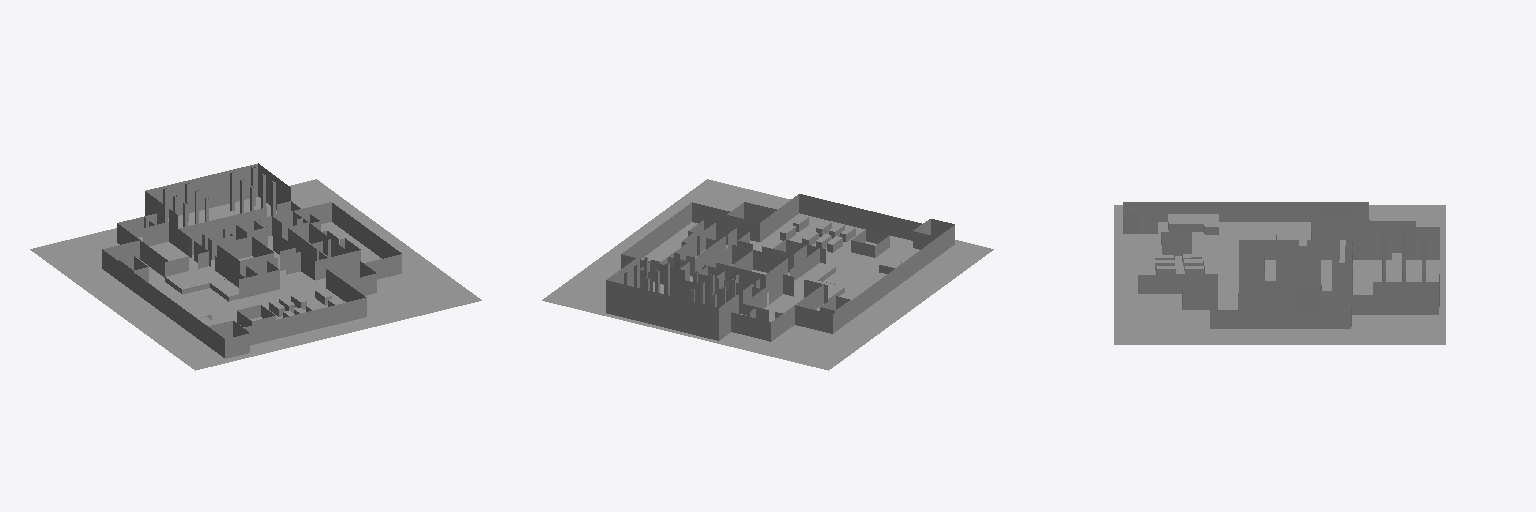
File: vacant.obj
The picture shows the model from 3 angles: view 1: azimuth 30°, elevation 25°; view 2: azimuth 150°, elevation 25°; view 3: azimuth 270°, elevation 25°; orthographic projection.
Visible parts, largest first — view 1: floor.001_Plane.048, Vert.042_Vert.058, Vert.050_Vert.066, Vert.049_Vert.065, Vert.001_Vert.002, Vert.036_Vert.049, Vert.022_Vert.024, Vert.004_Vert.050, Vert.088_Vert.116, Vert.008_Vert.010, Vert.046_Vert.062, Vert.094_Vert.123 (+7 smaller); view 2: floor.001_Plane.048, Vert.042_Vert.058, Vert.050_Vert.066, Vert.049_Vert.065, Vert.036_Vert.049, Vert.022_Vert.024, Vert.088_Vert.116, Vert.004_Vert.050, Vert.008_Vert.010, Vert.046_Vert.062, Vert.020_Vert.022, Vert.039_Vert.055 (+6 smaller); view 3: floor.001_Plane.048, Vert.049_Vert.065, Vert.088_Vert.116, Vert.074_Vert.102, Vert.046_Vert.062, Vert.036_Vert.049, Vert.064_Vert.092, Vert.022_Vert.024, Vert.004_Vert.050, Vert.041_Vert.057, Vert.028_Vert.030, Vert.051_Vert.067 (+5 smaller).
Part boxes in pixels (bbox=[...]): floor.001_Plane.048: bbox=[30, 179, 481, 370]; Vert.042_Vert.058: bbox=[146, 164, 257, 217]; Vert.050_Vert.066: bbox=[244, 297, 366, 345]; Vert.049_Vert.065: bbox=[102, 249, 207, 345]; Vert.001_Vert.002: bbox=[165, 266, 238, 301]; Vert.036_Vert.049: bbox=[326, 260, 376, 300]; Vert.022_Vert.024: bbox=[217, 236, 273, 277]; Vert.004_Vert.050: bbox=[208, 321, 249, 358]; Vert.088_Vert.116: bbox=[332, 203, 401, 258]; Vert.008_Vert.010: bbox=[179, 207, 266, 236]; Vert.046_Vert.062: bbox=[117, 223, 167, 277]; Vert.094_Vert.123: bbox=[246, 260, 279, 293]; floor.001_Plane.048: bbox=[542, 179, 993, 370]; Vert.042_Vert.058: bbox=[606, 280, 718, 340]; Vert.050_Vert.066: bbox=[799, 194, 921, 240]; Vert.049_Vert.065: bbox=[833, 238, 937, 333]; Vert.036_Vert.049: bbox=[727, 202, 777, 241]; Vert.022_Vert.024: bbox=[731, 250, 787, 292]; Vert.088_Vert.116: bbox=[622, 203, 691, 258]; Vert.004_Vert.050: bbox=[913, 219, 954, 256]; Vert.008_Vert.010: bbox=[664, 275, 742, 313]; Vert.046_Vert.062: bbox=[771, 284, 823, 341]; Vert.020_Vert.022: bbox=[851, 229, 889, 257]; Vert.039_Vert.055: bbox=[731, 312, 770, 341]; floor.001_Plane.048: bbox=[1114, 205, 1445, 344]; Vert.049_Vert.065: bbox=[1158, 202, 1368, 221]; Vert.088_Vert.116: bbox=[1210, 310, 1350, 328]; Vert.074_Vert.102: bbox=[1352, 282, 1438, 314]; Vert.046_Vert.062: bbox=[1311, 220, 1415, 239]; Vert.036_Vert.049: bbox=[1182, 274, 1217, 309]; Vert.064_Vert.092: bbox=[1239, 291, 1351, 309]; Vert.022_Vert.024: bbox=[1276, 246, 1320, 273]; Vert.004_Vert.050: bbox=[1123, 202, 1157, 233]; Vert.041_Vert.057: bbox=[1402, 226, 1439, 259]; Vert.028_Vert.030: bbox=[1346, 226, 1391, 259]; Vert.051_Vert.067: bbox=[1138, 274, 1181, 293].
Size of the model in its own units: 50.36 by 6.35 by 50.36.